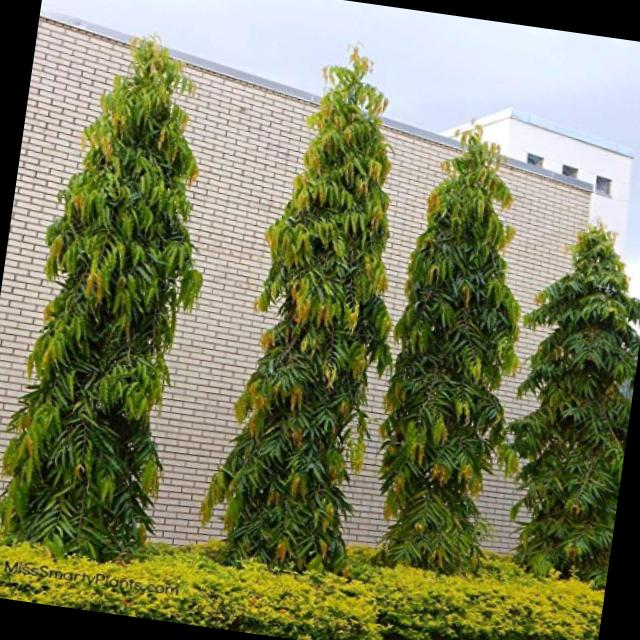Ashoka: (196, 27, 422, 610), (28, 96, 244, 578), (365, 143, 548, 584), (508, 197, 640, 600)
